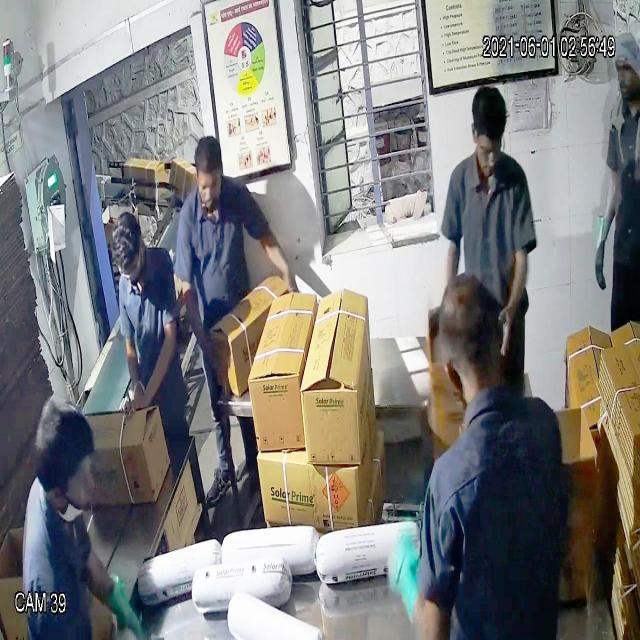glasses: (114, 253, 148, 288)
